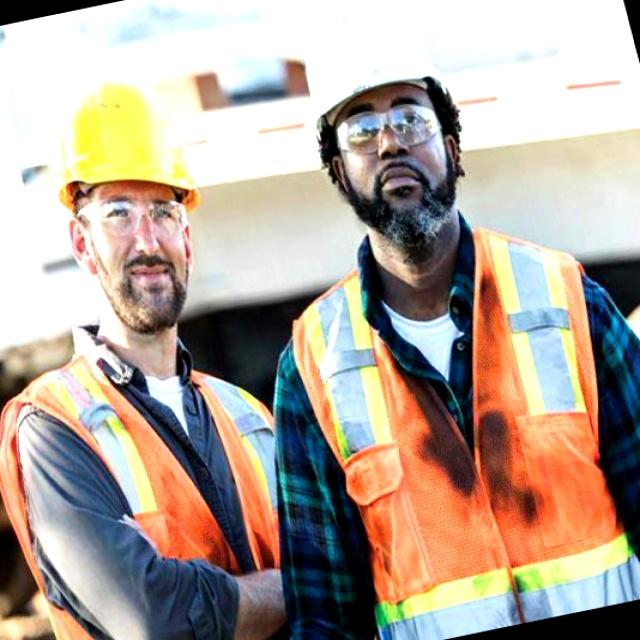helmet: (56, 79, 206, 202), (298, 20, 454, 106)
safety_vest: (267, 222, 637, 610), (3, 362, 292, 610)
